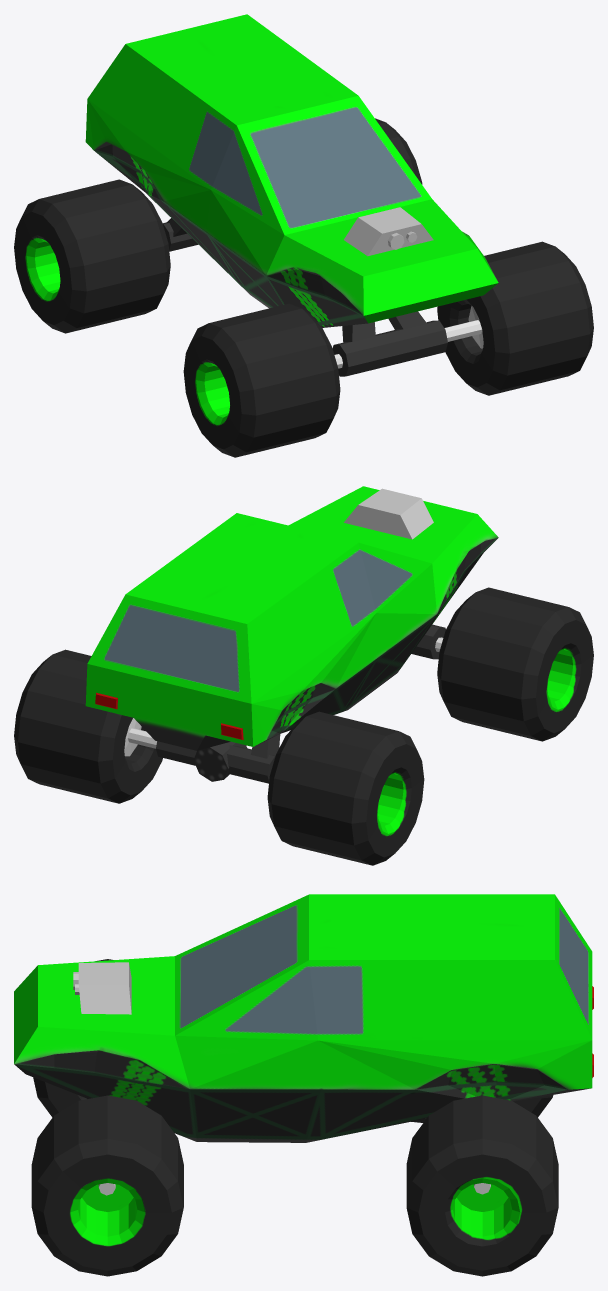
File: kart_body_2.fbx
3 renders of one model, top to bottom at view 1: azimuth 30°, elevation 25°; view 2: azimuth 150°, elevation 25°; view 3: azimuth 270°, elevation 25°, orthographic. The views are drawn at different scales.
Parts seen in each view (by area): view 1: Body, Front Right, Back Right, Front Left, Front Axle, Back Left; view 2: Body, Back Right, Front Right, Back Left, Back Axle; view 3: Body, Back Left, Front Left, Front Right.
Boxes of the visible parts, bbox=[...] form: Body: bbox=[85, 14, 498, 376]; Front Right: bbox=[183, 303, 340, 457]; Back Right: bbox=[14, 179, 170, 333]; Front Left: bbox=[437, 241, 593, 395]; Front Axle: bbox=[334, 305, 483, 368]; Back Left: bbox=[375, 118, 422, 184]; Body: bbox=[85, 486, 498, 783]; Back Right: bbox=[267, 711, 424, 865]; Front Right: bbox=[437, 587, 593, 741]; Back Left: bbox=[14, 649, 162, 803]; Back Axle: bbox=[124, 718, 156, 756]; Body: bbox=[14, 894, 593, 1142]; Back Left: bbox=[406, 1095, 558, 1276]; Front Left: bbox=[31, 1095, 183, 1276]; Front Right: bbox=[33, 959, 113, 1117].
Bounding box in the file's own units: 429 × 273 × 554.
Materials: 5 (5 with a texture image).
